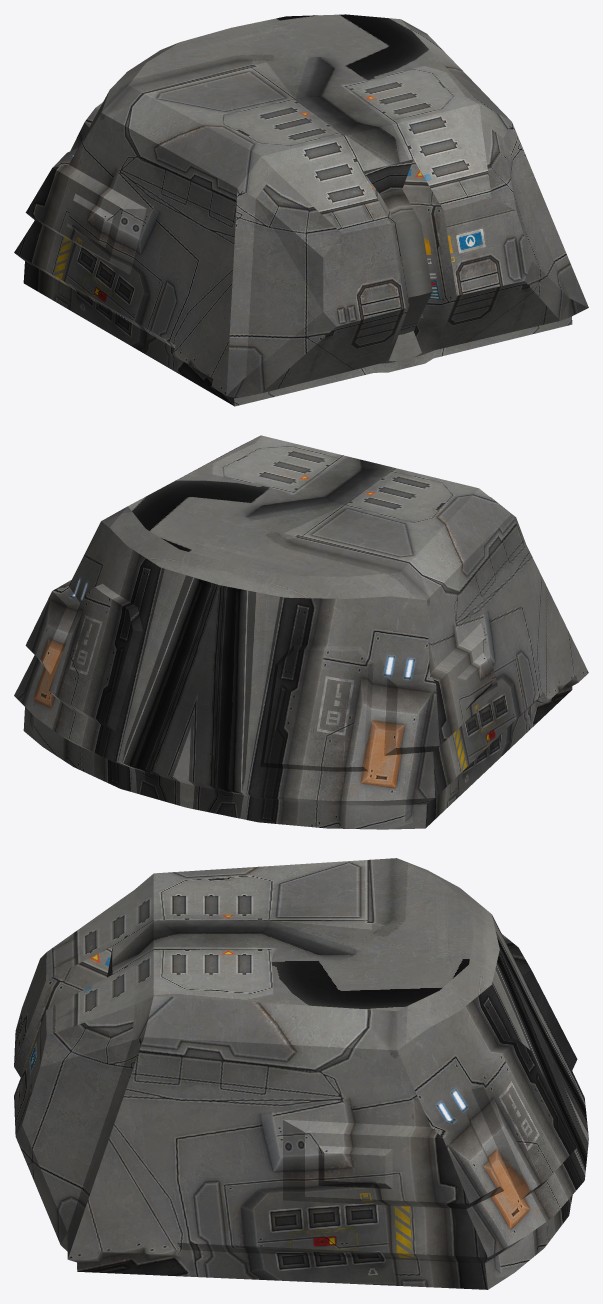
Rendered from gun0-0.obj.
3 renders of one model, top to bottom at view 1: azimuth 30°, elevation 25°; view 2: azimuth 150°, elevation 25°; view 3: azimuth 270°, elevation 25°, orthographic. The views are drawn at different scales.
Parts seen in each view (by area): view 1: Tai_HeavyCruiserGun; view 2: Tai_HeavyCruiserGun; view 3: Tai_HeavyCruiserGun.
Boxes of the visible parts, x1,y1,x2,y2 form: Tai_HeavyCruiserGun: (14, 14, 588, 406); Tai_HeavyCruiserGun: (14, 435, 588, 829); Tai_HeavyCruiserGun: (14, 858, 588, 1289).
Size of the model in its own units: 41.68 by 20.02 by 42.93.
1 material, 1 textured.
